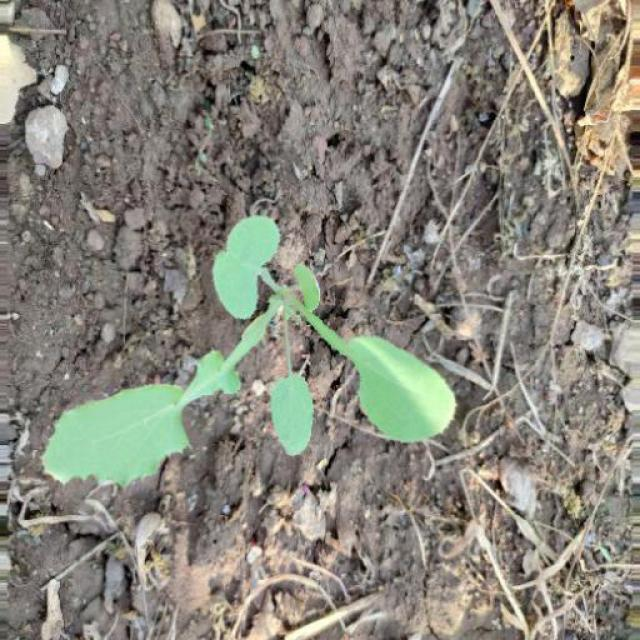weed: (35, 218, 475, 512)
